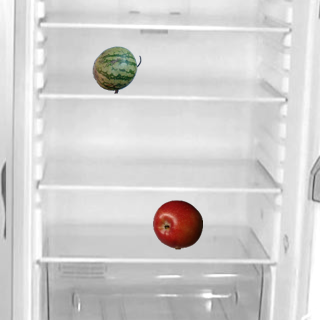Apple Braeburn: (152, 199, 202, 249)
Watermelon: (91, 44, 141, 94)
